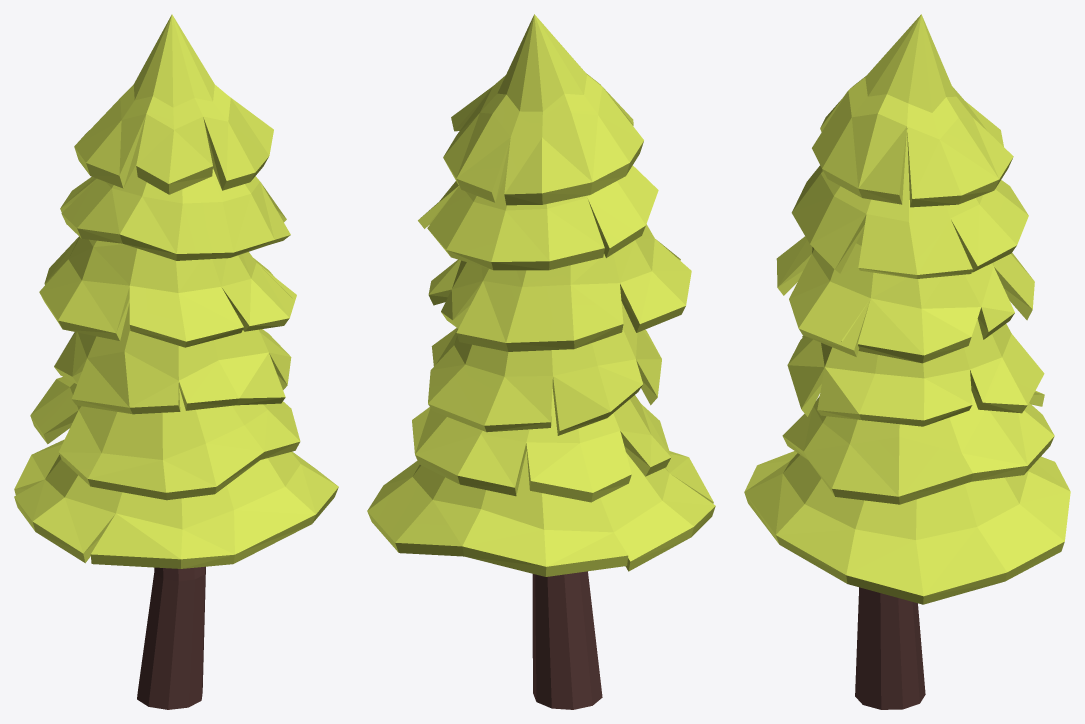
File: Conifer Tree_4.fbx
3 renders of one model, left to right at view 1: azimuth 30°, elevation 25°; view 2: azimuth 150°, elevation 25°; view 3: azimuth 270°, elevation 25°, orthographic. The views are drawn at different scales.
Visible parts, largest first — view 1: Conifer Tree_4; view 2: Conifer Tree_4; view 3: Conifer Tree_4.
Boxes of the visible parts, x1,y1,x2,y2 form: Conifer Tree_4: [14, 14, 338, 709]; Conifer Tree_4: [367, 14, 715, 709]; Conifer Tree_4: [744, 14, 1070, 709].
Size of the model in its own units: 1.78 by 3.89 by 1.67.
